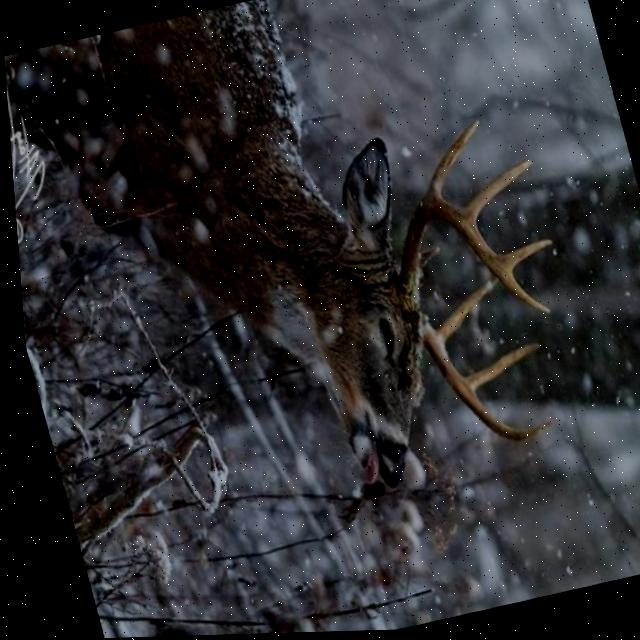L-F: (390, 199, 545, 317)
L-G1: (423, 122, 477, 201)
L-G2: (459, 163, 531, 224)
L-G3: (494, 241, 548, 274)
R-G1: (430, 281, 494, 346)
R-G2: (456, 345, 535, 394)
